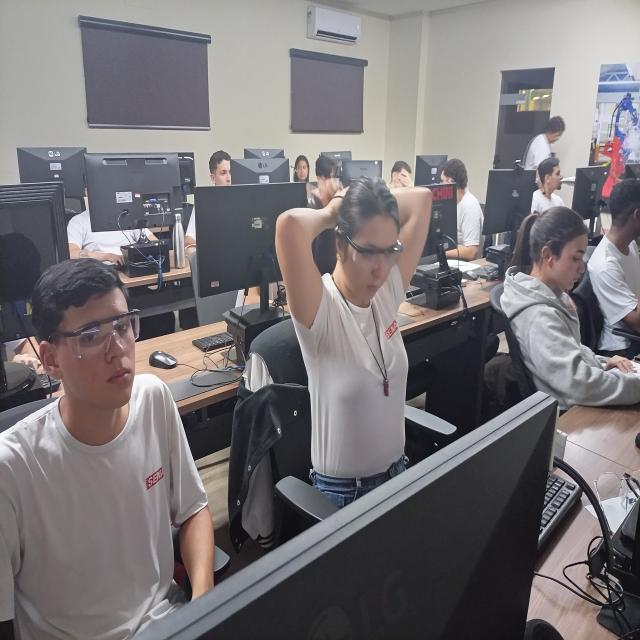oculos-epi: (49, 310, 139, 358), (347, 237, 403, 270)
sem_oculos: (556, 238, 589, 268), (212, 162, 237, 182), (554, 129, 568, 144), (293, 163, 313, 173), (548, 170, 564, 179)
